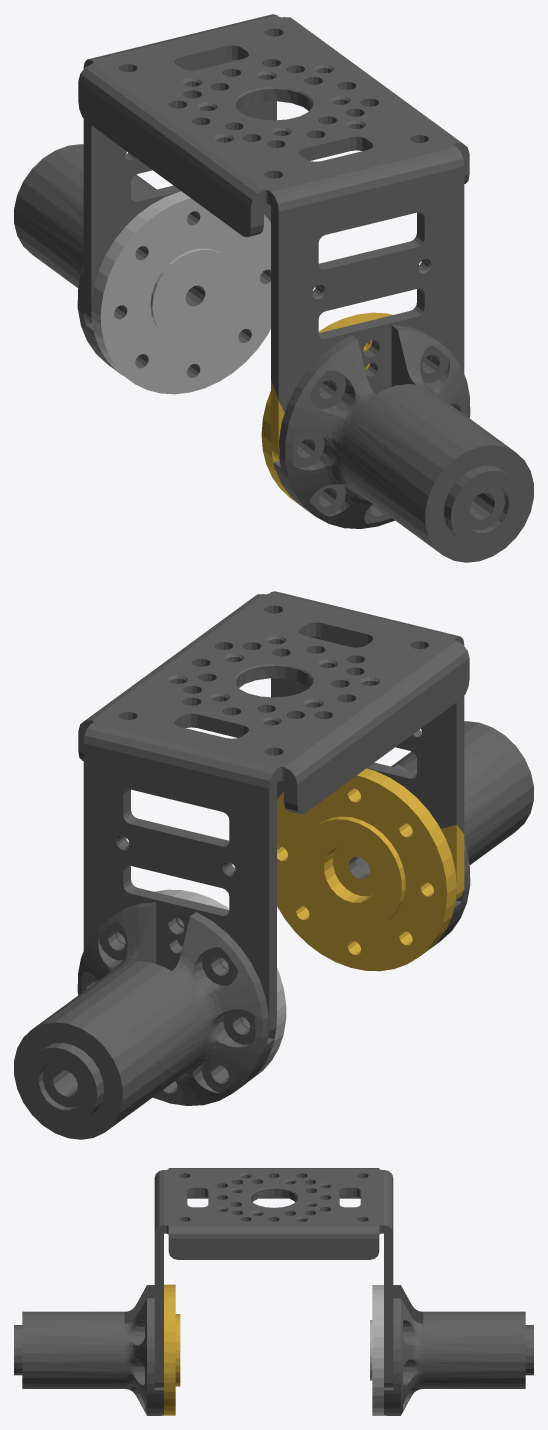
Rendered from tilt_bracket.dae.
3 views of the same model, one above another, from view 1: azimuth 30°, elevation 25°; view 2: azimuth 150°, elevation 25°; view 3: azimuth 270°, elevation 25° (orthographic). The views are drawn at different scales.
Parts seen in each view (by area): view 1: tilt_bracket; view 2: tilt_bracket; view 3: tilt_bracket.
Boxes of the visible parts, x1,y1,x2,y2 form: tilt_bracket: [14, 14, 533, 562]; tilt_bracket: [14, 591, 533, 1139]; tilt_bracket: [14, 1168, 533, 1415].
Size of the model in its own units: 0.033 by 0.111 by 0.05.
